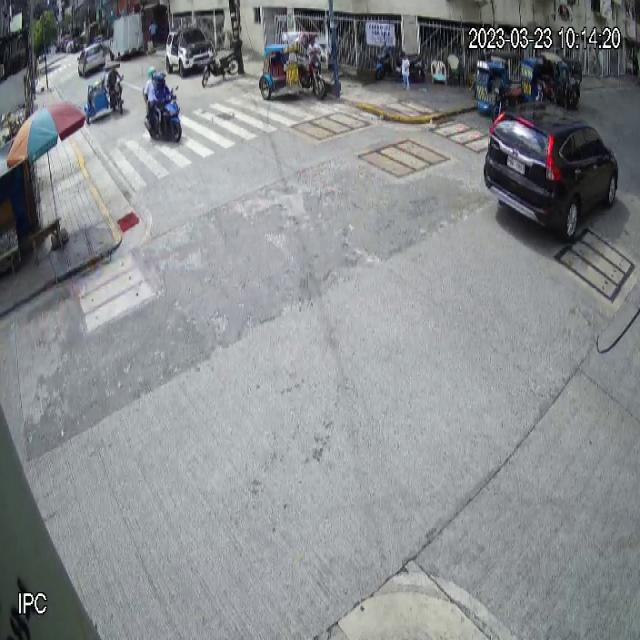Car: (482, 102, 620, 241)
Motorcycle: (202, 48, 241, 89)
Tricycle: (259, 31, 327, 100)
